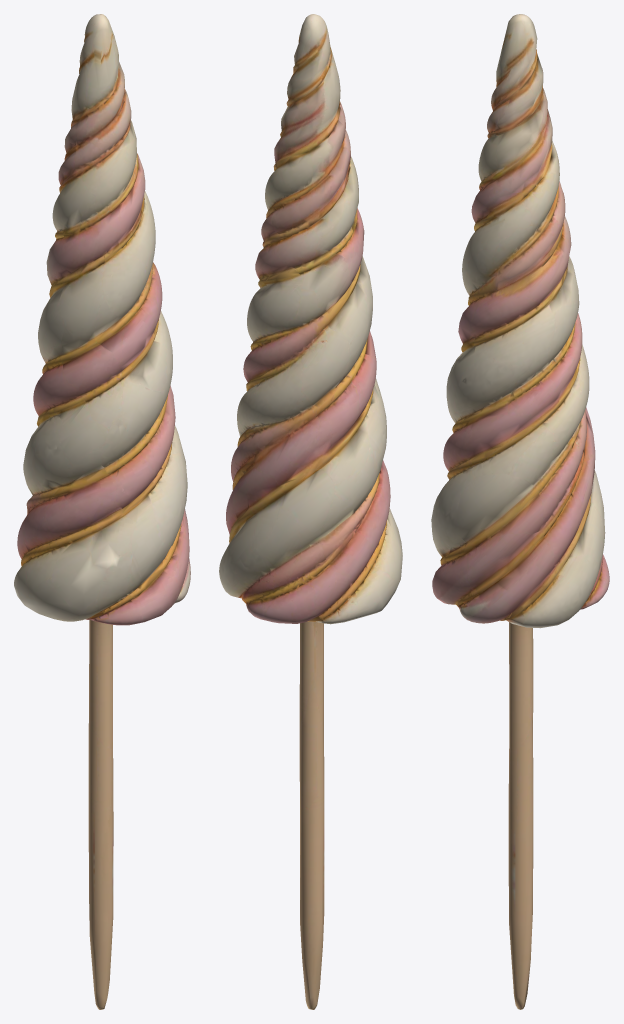
The model's file is bk-topper-horn.glb.
3 views of the same model, side by side, from view 1: azimuth 30°, elevation 25°; view 2: azimuth 150°, elevation 25°; view 3: azimuth 270°, elevation 25° (orthographic).
Parts seen in each view (by area): view 1: node_0; view 2: node_0; view 3: node_0.
Part boxes in pixels (bbox=[...]): node_0: bbox=[14, 14, 190, 1009]; node_0: bbox=[219, 14, 402, 1009]; node_0: bbox=[431, 14, 609, 1009].
Size of the model in its own units: 0.1955 by 1.2 by 0.1948.
Materials: 1 (1 with a texture image).
